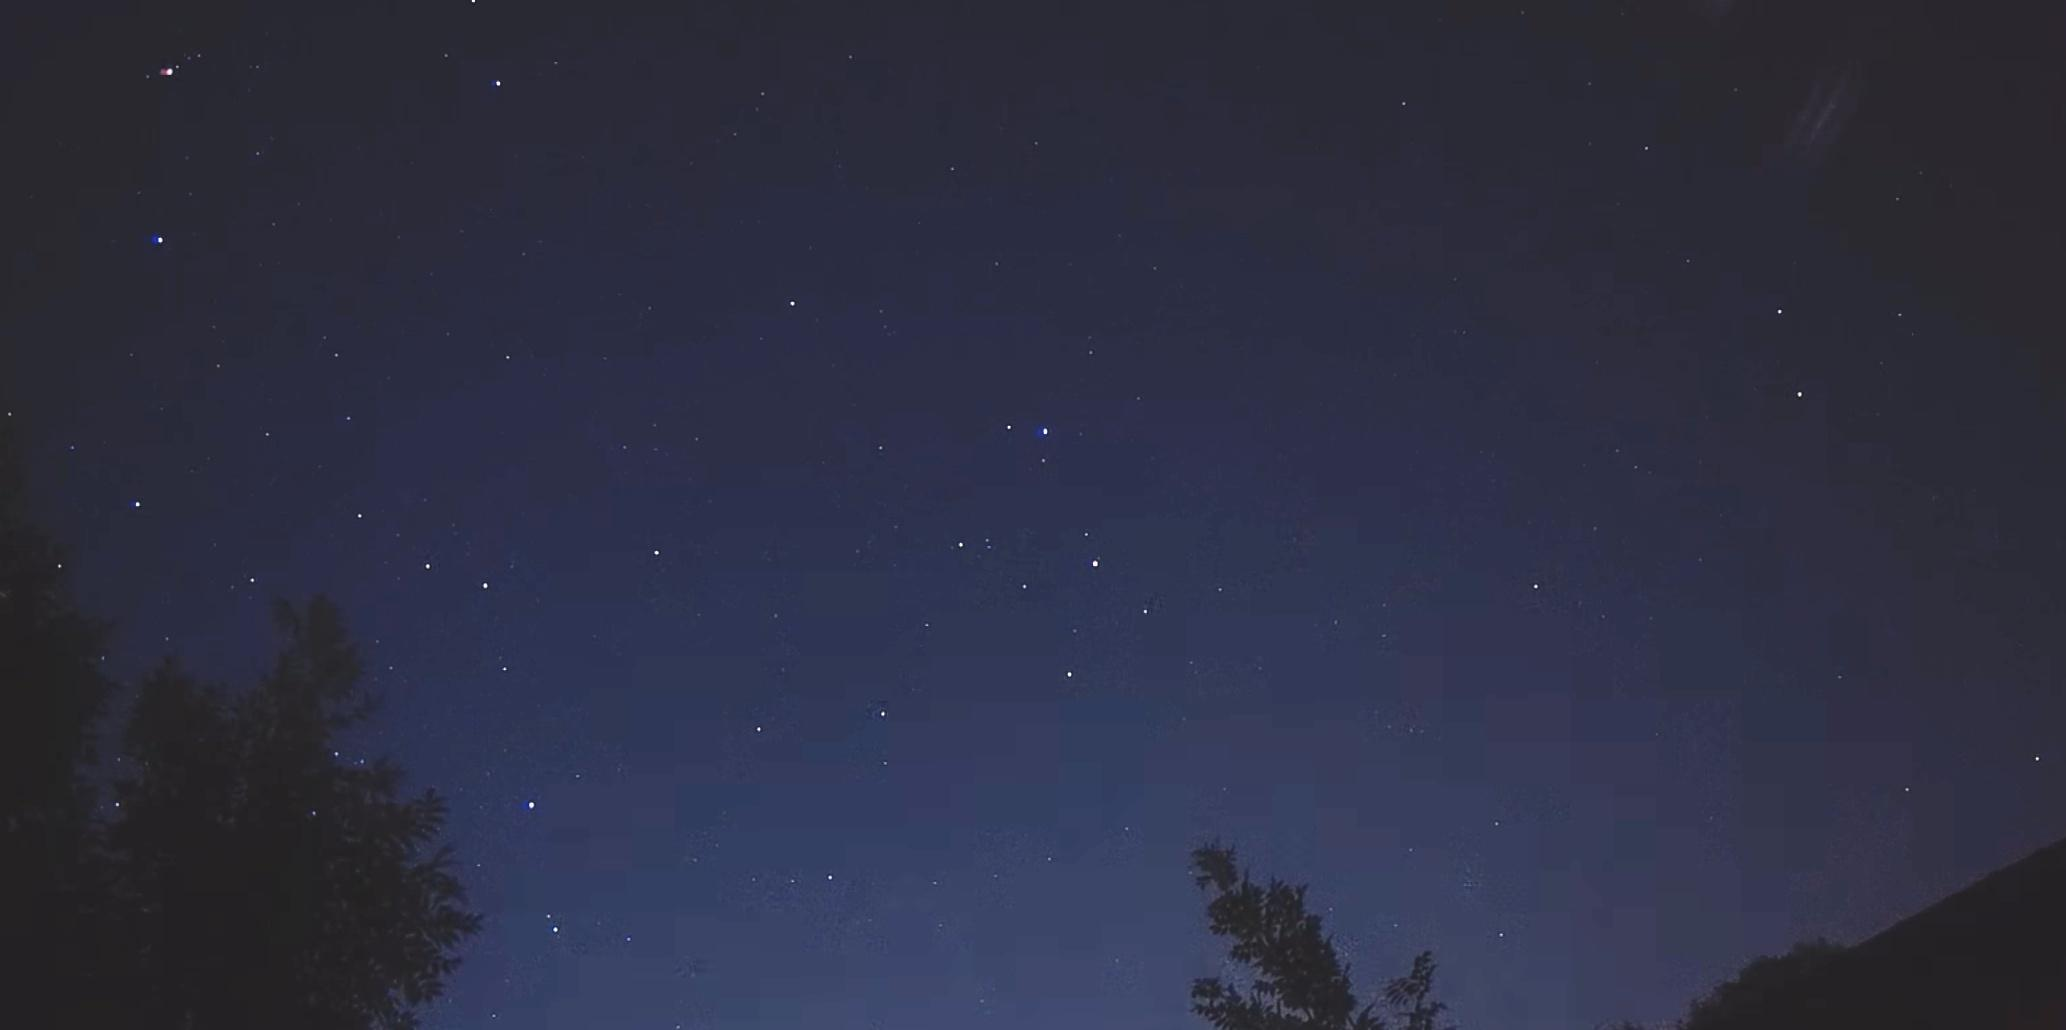Plane: (130, 51, 198, 94)
